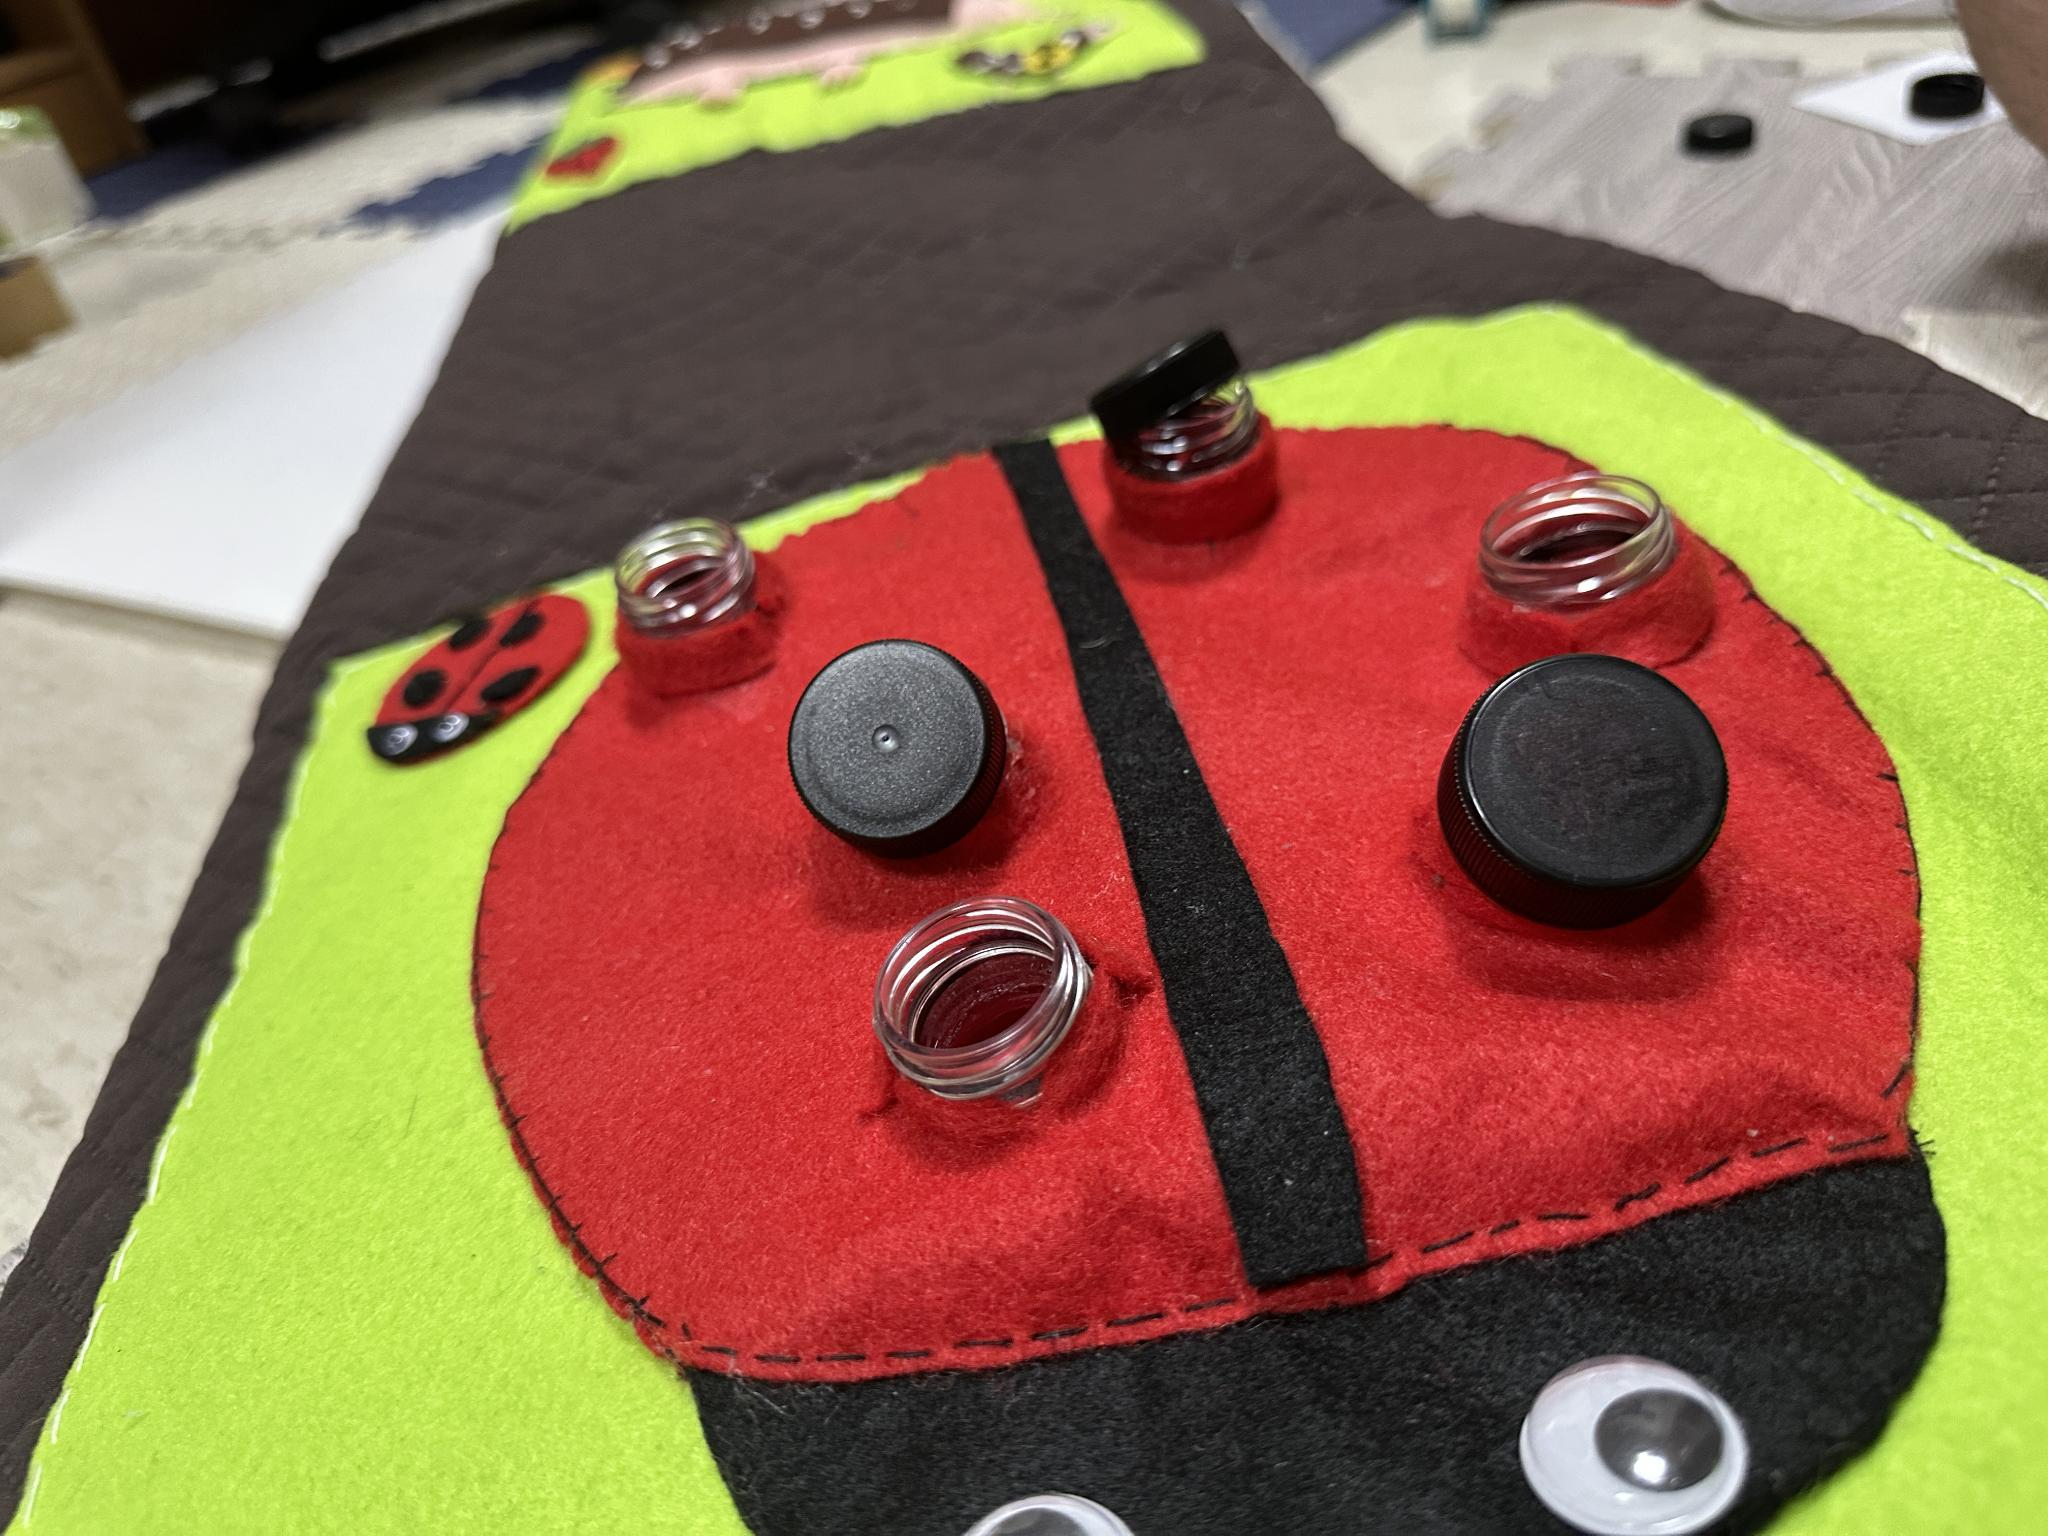cap_ng: (1392, 636, 1763, 1028), (782, 623, 1043, 879), (1074, 313, 1306, 570)
